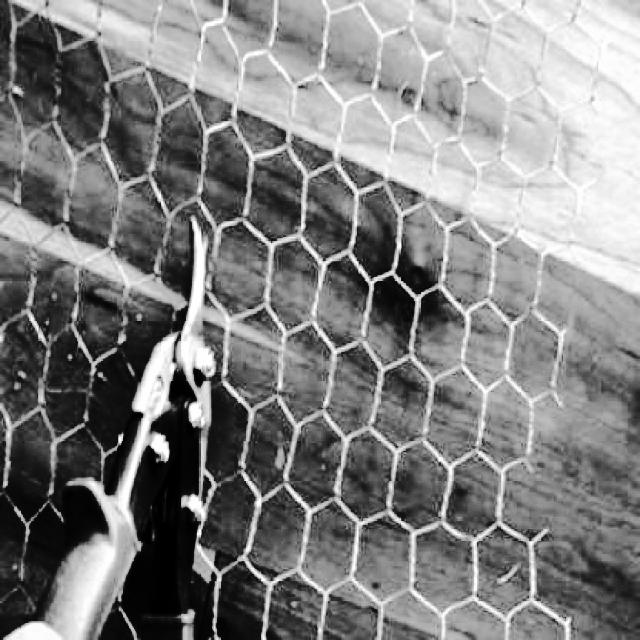anomaly-fence: (529, 23, 640, 640)
